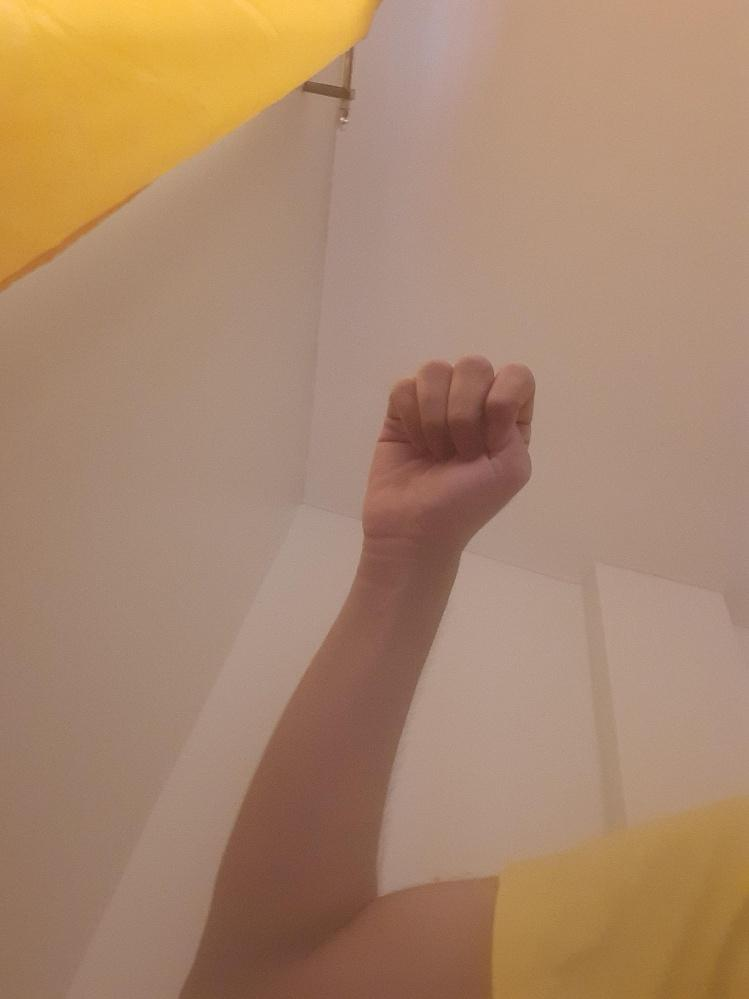a: (364, 355, 536, 534)
